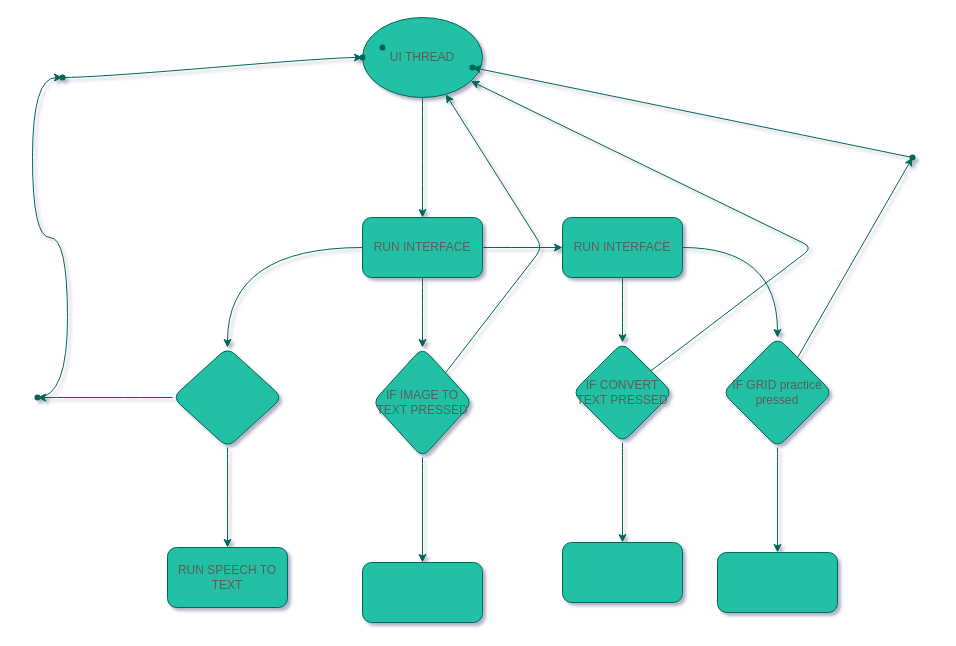
The diagram is 956 pixels wide and 646 high, and some of its shapes have lost their labels. Each missing label, with the centre of its shape:
"IF SPEECH TO TEXT PRESSED" belongs at (227,397).
"RUN CONVERT TEXT" belongs at (622,572).
"RUN GRID PRACTICE" belongs at (777,582).
"RUN IMAGE TO TEXT" belongs at (422,592).
